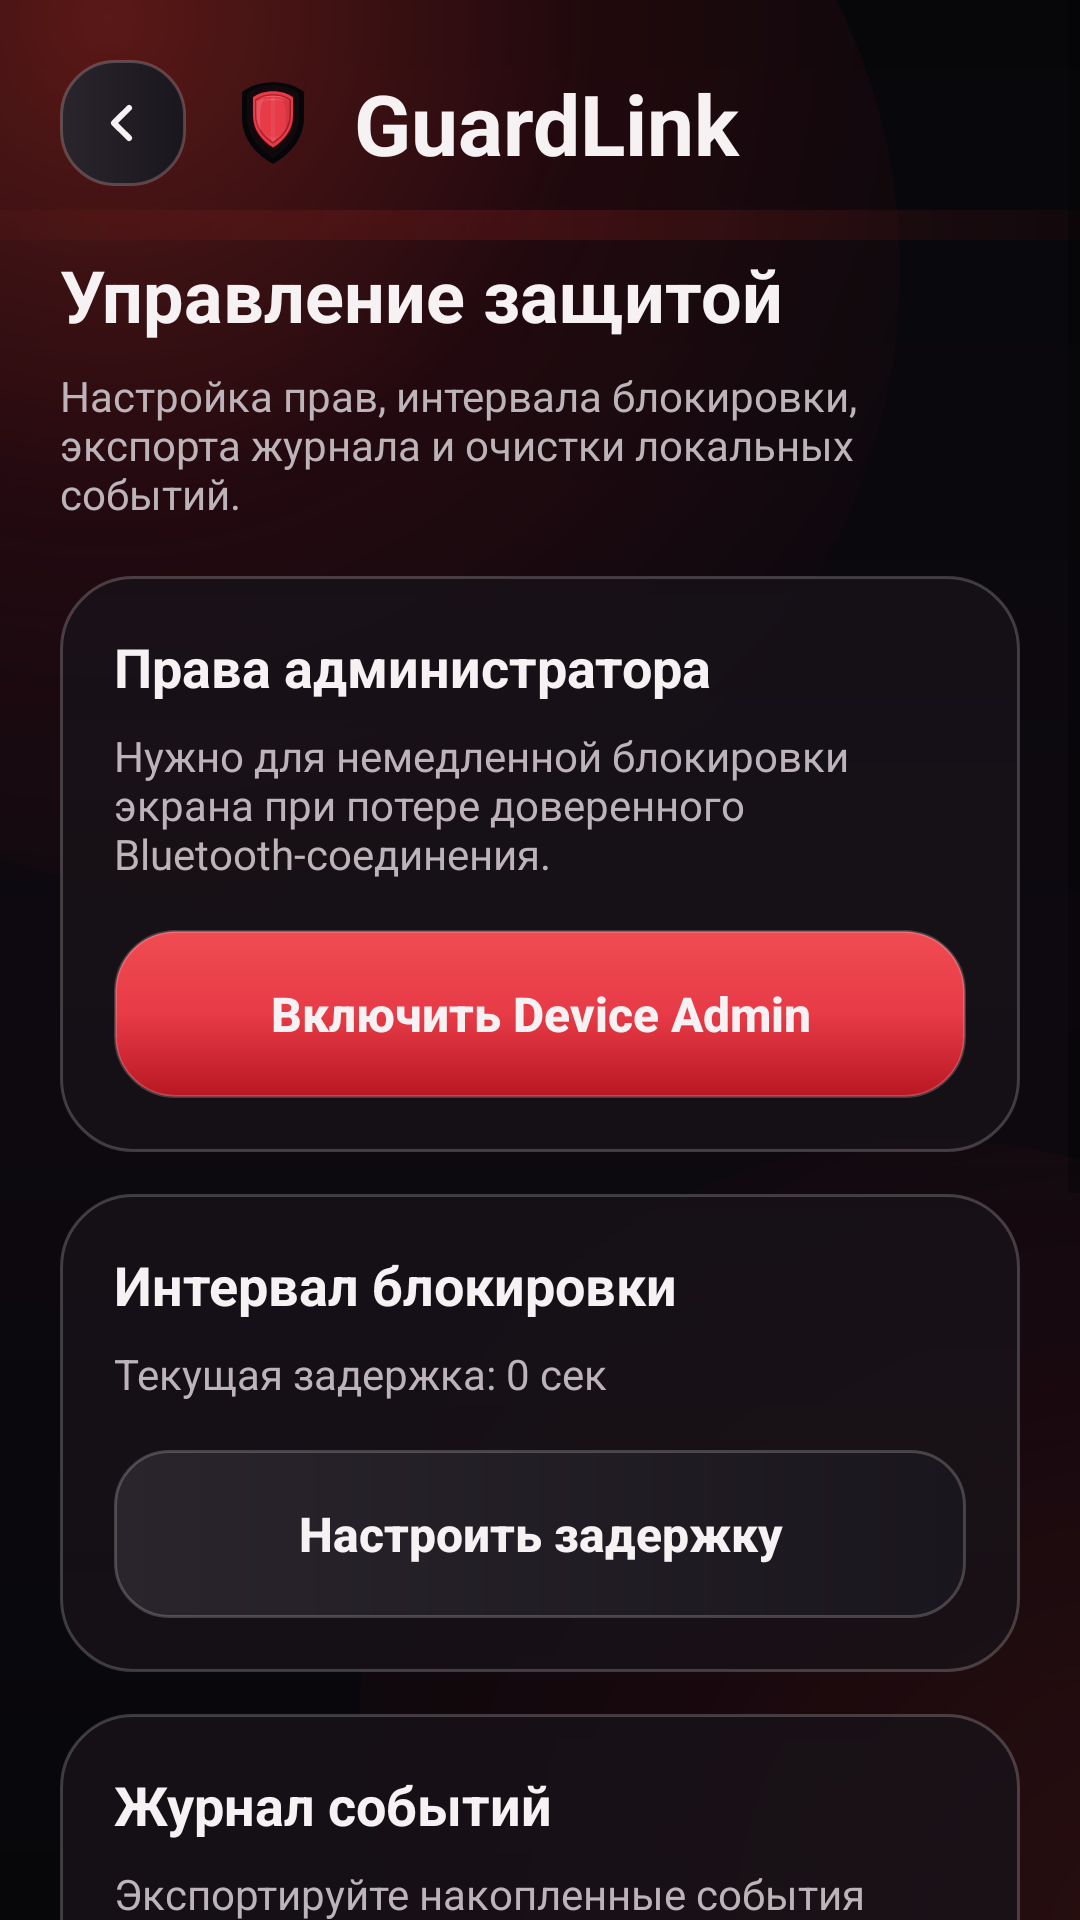

Screen size 1080w x 1920h. Icon name, then its box in pixels as detection(x1, y1, x2, y2):
Назад: detection(60, 60, 186, 186)
